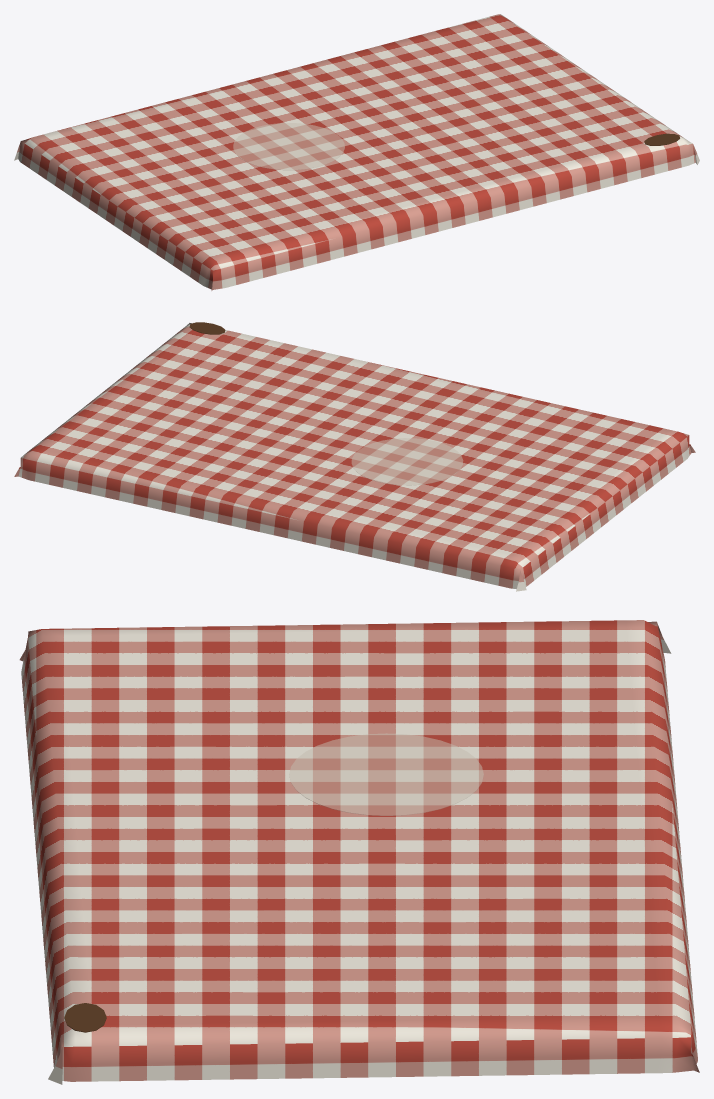
The model's file is KhanBan_Nilon.glb.
3 renders of one model, top to bottom at view 1: azimuth 30°, elevation 25°; view 2: azimuth 150°, elevation 25°; view 3: azimuth 270°, elevation 25°, orthographic. The views are drawn at different scales.
Visible parts, largest first — view 1: geometry_0; view 2: geometry_0; view 3: geometry_0.
Part boxes in pixels (x1=…): geometry_0: x1=14, y1=14, x2=699, y2=290; geometry_0: x1=14, y1=322, x2=695, y2=591; geometry_0: x1=19, y1=620, x2=699, y2=1084.
Size of the model in its own units: 1.17 by 0.0513 by 0.7749.
Materials: 3 (1 with a texture image).
